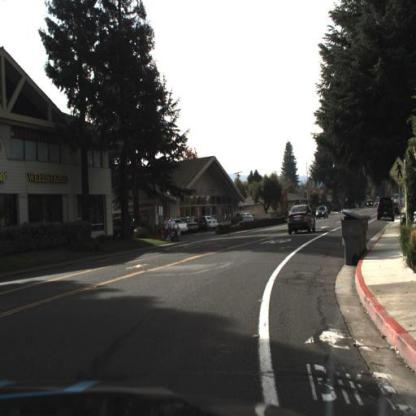car: (281, 202, 321, 237), (228, 211, 256, 227), (198, 213, 218, 231), (175, 217, 192, 237), (185, 216, 200, 233)
pedestrian: (162, 211, 170, 244), (169, 215, 177, 242), (163, 217, 172, 239)
